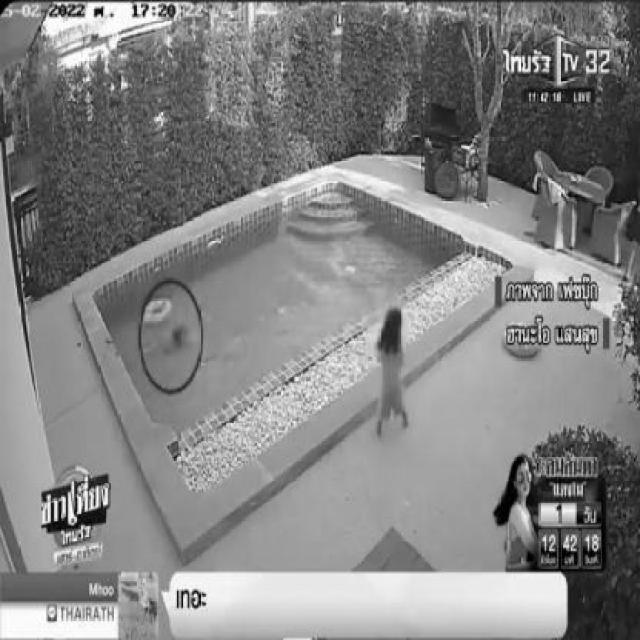drowning: (140, 328, 194, 363)
